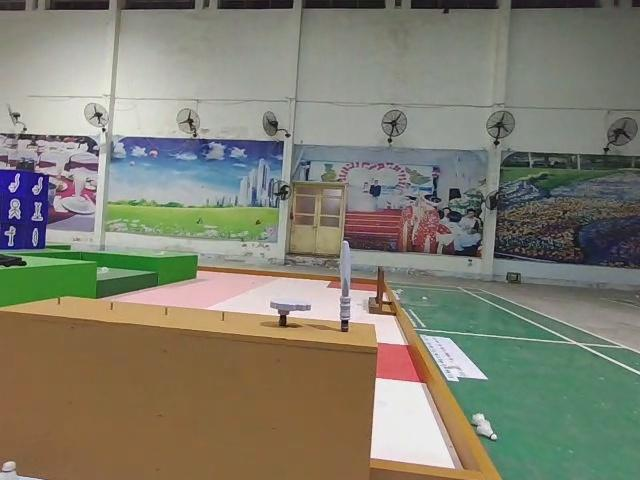Hand: (266, 298, 311, 324)
Sph: (338, 236, 353, 333)
